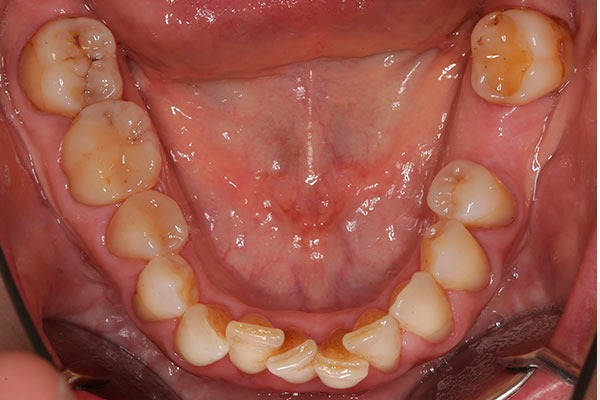LL1BC_healthy: (433, 225, 489, 290)
LL1M_decay: (458, 103, 522, 167)
LL2BC_healthy: (428, 165, 504, 225)
LL2M_decay: (472, 14, 570, 102)
LLCI_decay: (318, 335, 367, 388)
LLC_healthy: (397, 274, 450, 338)
LLLI_decay: (354, 309, 400, 369)
LR1BC_healthy: (140, 257, 198, 318)
LR1M_decay: (62, 102, 159, 199)
LR2BC_healthy: (113, 191, 187, 257)
LR2M_decay: (28, 18, 118, 111)
LRCI_decay: (276, 329, 316, 382)
LRC_decay: (180, 303, 228, 365)
LRLI_decay: (230, 313, 275, 372)
